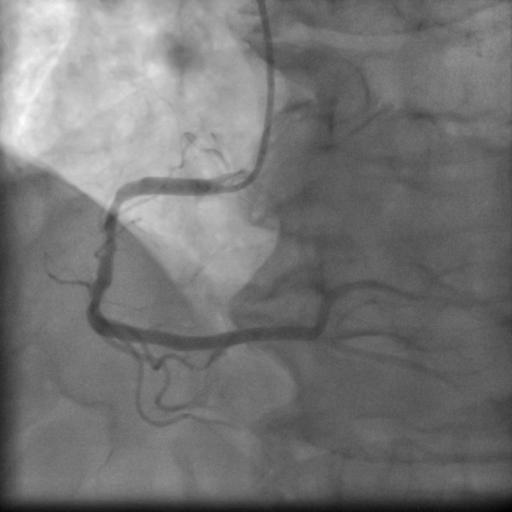Stenosis: (95, 186, 122, 303)
